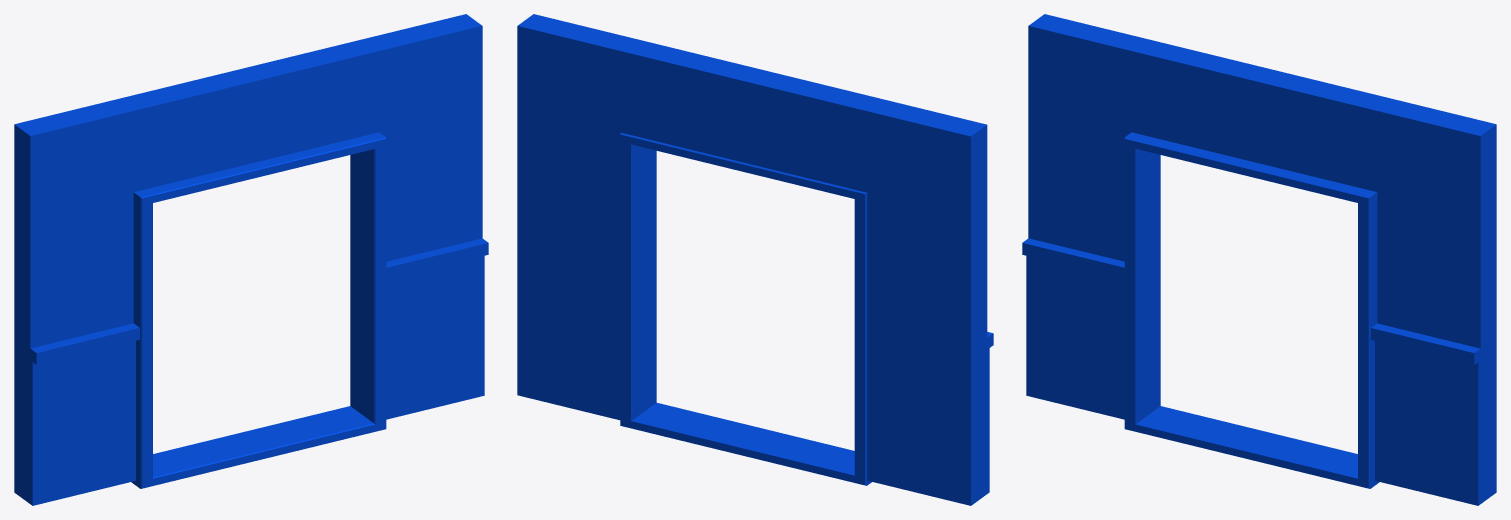
File: OfficeDoorway.fbx
3 views of the same model, side by side, from view 1: azimuth 30°, elevation 25°; view 2: azimuth 150°, elevation 25°; view 3: azimuth 330°, elevation 25° (orthographic).
Visible parts, largest first — view 1: OfficeDoorway; view 2: OfficeDoorway; view 3: OfficeDoorway.
Boxes of the visible parts, <box> form: OfficeDoorway: <box>14,14,488,505</box>; OfficeDoorway: <box>517,14,993,505</box>; OfficeDoorway: <box>1022,14,1496,505</box>.
Bounding box in the file's own units: 276 × 350 × 33.7.
